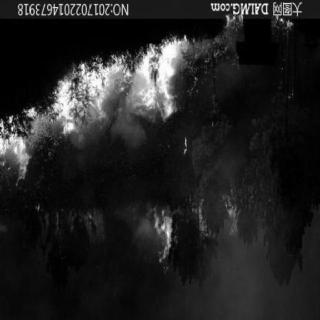Fire: (192, 203, 208, 237)
